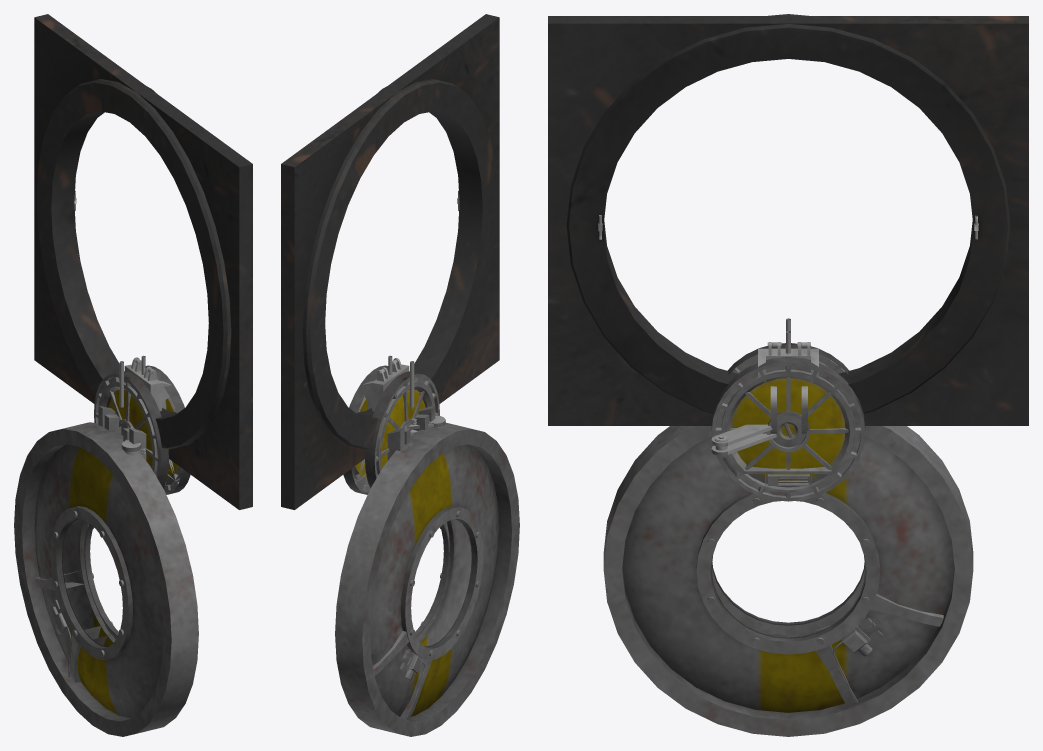
The model's file is transition_seal.obj.
3 views of the same model, side by side, from view 1: azimuth 30°, elevation 25°; view 2: azimuth 150°, elevation 25°; view 3: azimuth 270°, elevation 25° (orthographic). The views are drawn at different scales.
Visible parts, largest first — view 1: frame, door, ring_002, door_006, Cube_006, ring_001; view 2: frame, door, ring_002, door_006, Cube_006, ring_001; view 3: frame, door, door_003, ring_001, Cube_006, Cylinder_005, ring_002.
Part boxes in pixels (left/top/right/bottom): frame: left=34, top=14, right=252, bottom=509; door: left=14, top=405, right=198, bottom=736; ring_002: left=94, top=371, right=168, bottom=488; door_006: left=99, top=383, right=154, bottom=470; Cube_006: left=124, top=357, right=171, bottom=411; ring_001: left=145, top=365, right=190, bottom=494; frame: left=281, top=14, right=499, bottom=509; door: left=335, top=405, right=519, bottom=736; ring_002: left=365, top=371, right=439, bottom=488; door_006: left=379, top=383, right=434, bottom=470; Cube_006: left=362, top=358, right=409, bottom=411; ring_001: left=343, top=365, right=388, bottom=494; frame: left=548, top=14, right=1028, bottom=425; door: left=603, top=426, right=973, bottom=736; door_003: left=723, top=372, right=853, bottom=487; ring_001: left=711, top=357, right=865, bottom=501; Cube_006: left=758, top=342, right=818, bottom=434; Cylinder_005: left=711, top=424, right=776, bottom=455; ring_002: left=727, top=343, right=849, bottom=374.
Size of the model in its own units: 7.65 by 43.58 by 26.
1 material, 1 textured.
